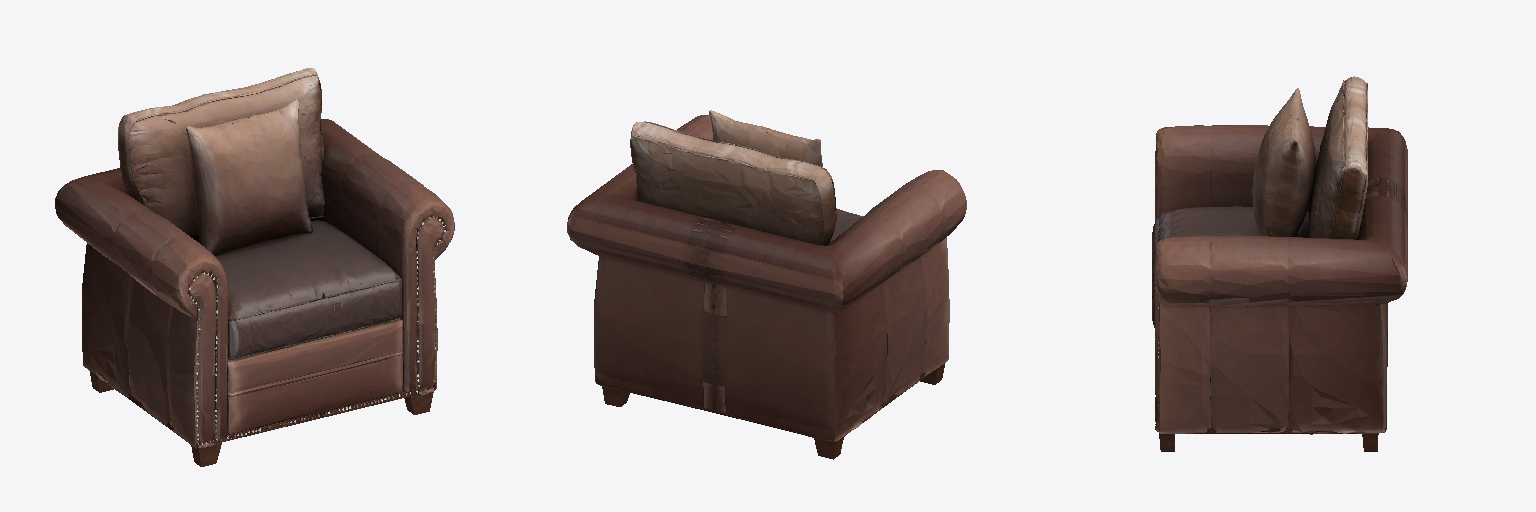
3 renders of one model, left to right at view 1: azimuth 30°, elevation 25°; view 2: azimuth 150°, elevation 25°; view 3: azimuth 270°, elevation 25°, orthographic.
Visible parts, largest first — view 1: solid_004, solid_002, solid_001, solid_003, solid_005; view 2: solid_004, solid_002, solid_003; view 3: solid_004, solid_002, solid_001, solid_003.
Part boxes in pixels (bbox=[...]): solid_004: bbox=[55, 119, 454, 447]; solid_002: bbox=[118, 68, 324, 255]; solid_001: bbox=[215, 220, 401, 359]; solid_003: bbox=[90, 371, 435, 466]; solid_005: bbox=[189, 216, 445, 445]; solid_004: bbox=[567, 115, 966, 441]; solid_002: bbox=[630, 110, 836, 245]; solid_003: bbox=[602, 363, 944, 459]; solid_004: bbox=[1155, 125, 1407, 434]; solid_002: bbox=[1252, 76, 1367, 239]; solid_001: bbox=[1152, 206, 1308, 327]; solid_003: bbox=[1159, 428, 1378, 451].
Bounding box in the file's own units: 1.39 × 1.31 × 1.08.
1 materials, 1 textured.